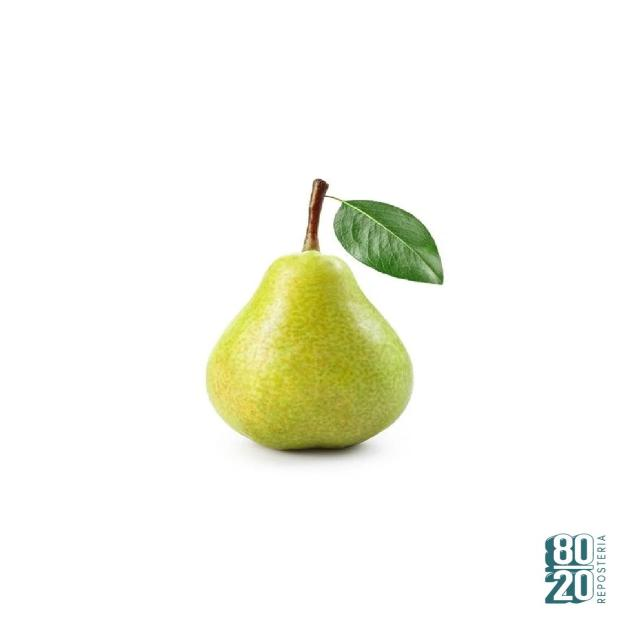pera: (184, 161, 466, 475)
